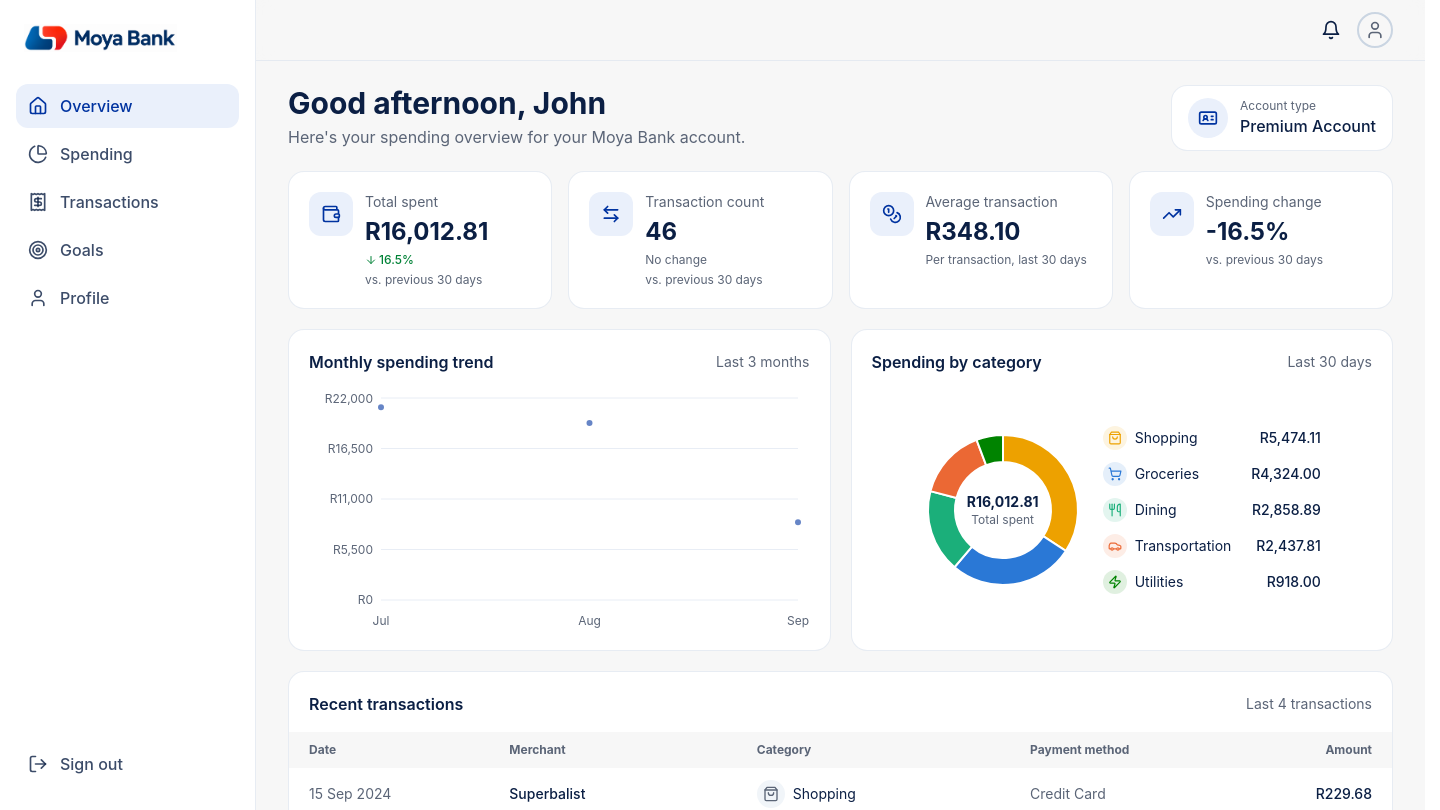
Scenario: Dashboard layout › opens an account menu from the avatar
This screenshot has width=1440, height=810.
Step 1. Click the button named "Signed in as John Doe" → x=1375, y=30, box [1357,12,1393,48]
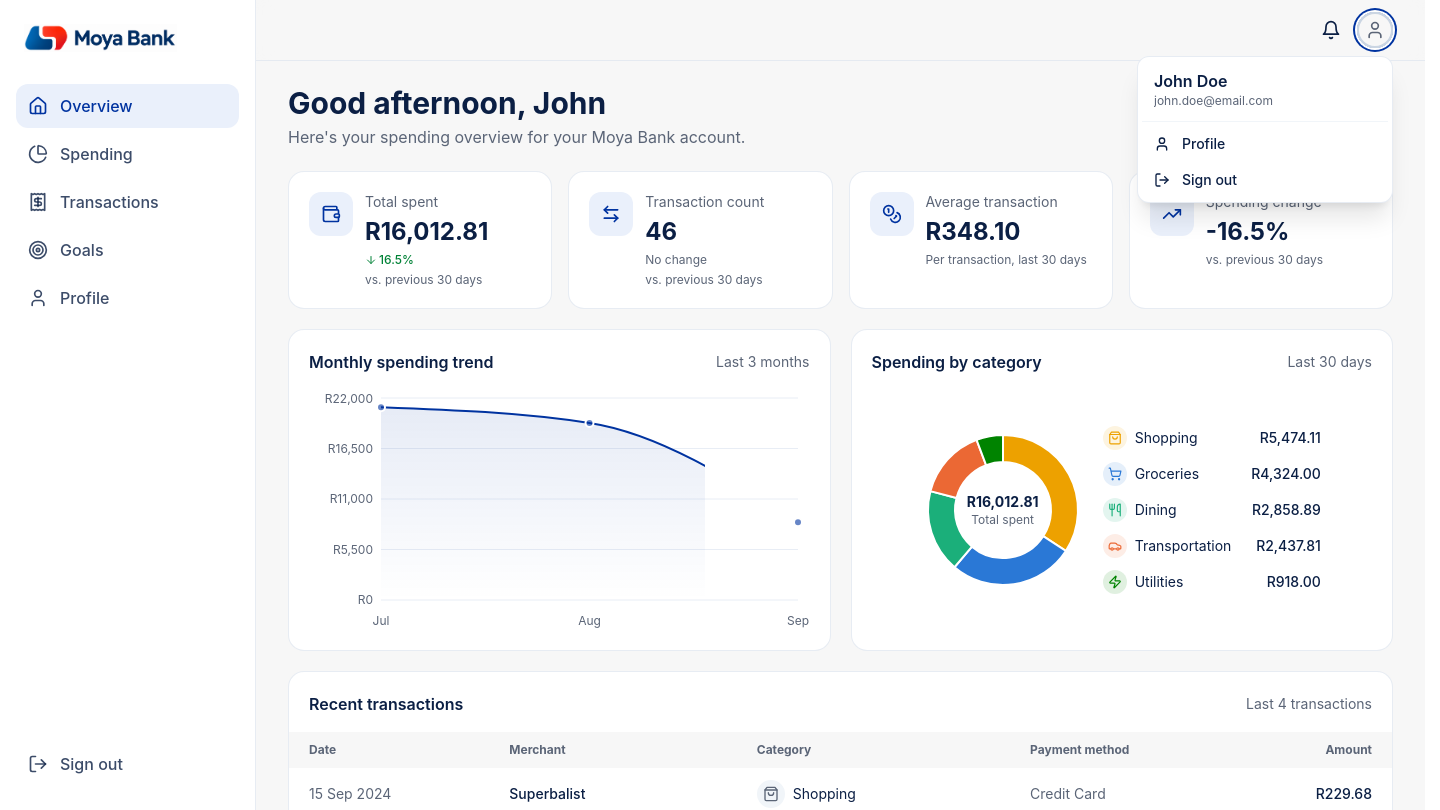
Now the text "John Doe" is shown, box [1154,71,1227,91]
Now the text "john.doe@email.com" is shown, box [1154,93,1273,108]
